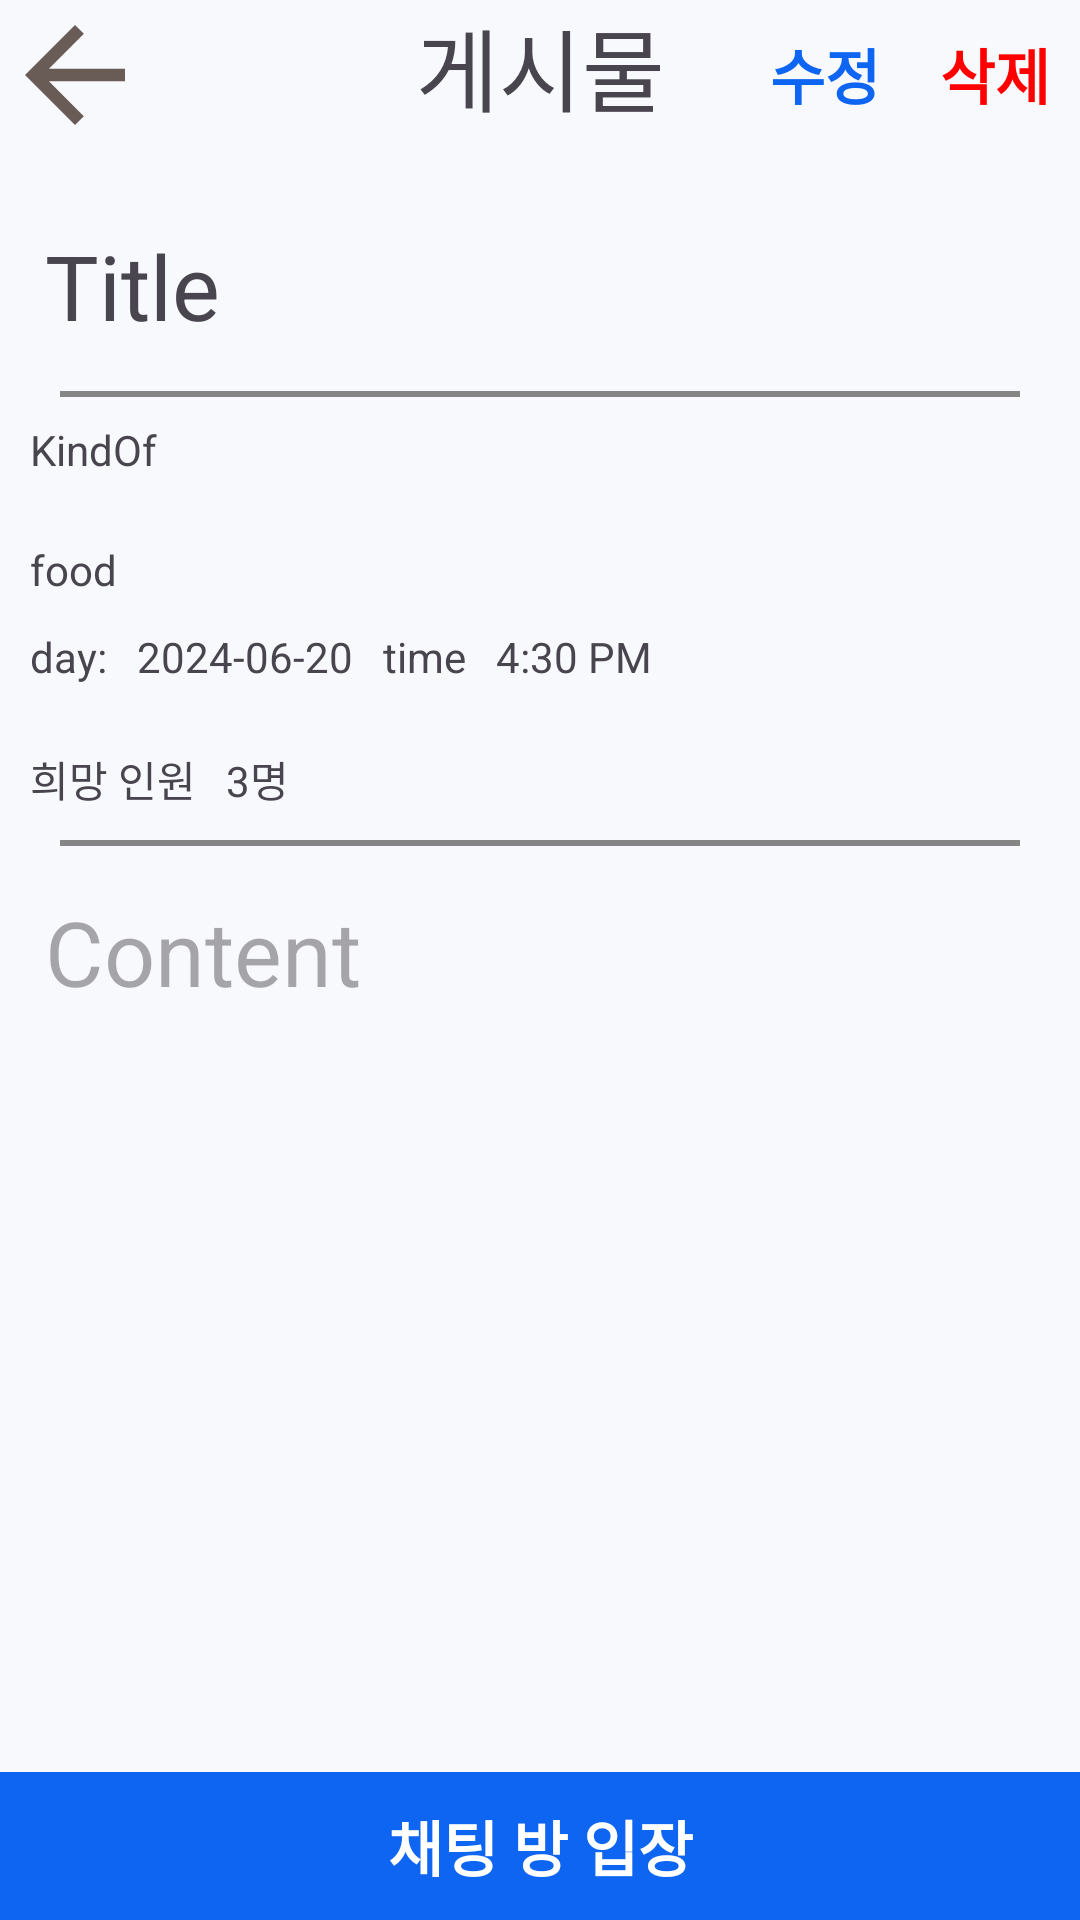

Screen size 1080x1920. Icon name, then its center in pixels as (x=x, y=y):
arrow back: (x=75, y=75)
